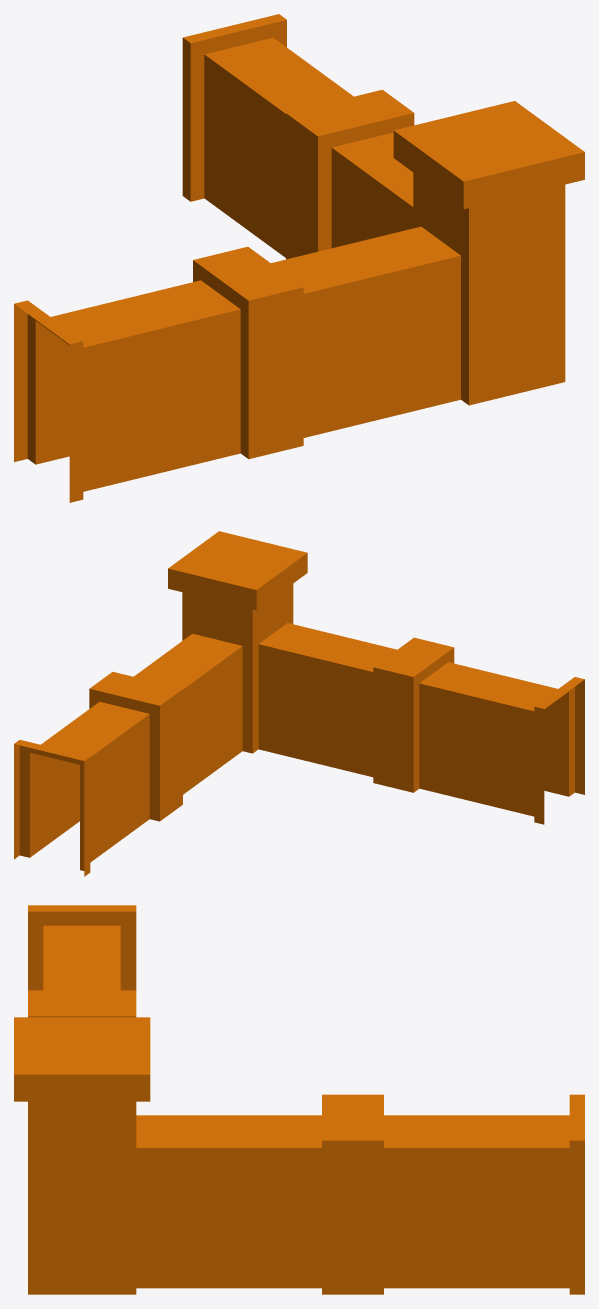
Rendered from cornerWall.fbx.
3 renders of one model, top to bottom at view 1: azimuth 30°, elevation 25°; view 2: azimuth 150°, elevation 25°; view 3: azimuth 270°, elevation 25°, orthographic. The views are drawn at different scales.
Parts seen in each view (by area): view 1: CornerWall; view 2: CornerWall; view 3: CornerWall.
Part boxes in pixels (x1,y1,x2,y2): CornerWall: (14, 14, 584, 502); CornerWall: (14, 531, 584, 876); CornerWall: (14, 905, 584, 1294).
Size of the model in its own units: 36.9 by 16.11 by 36.9.
